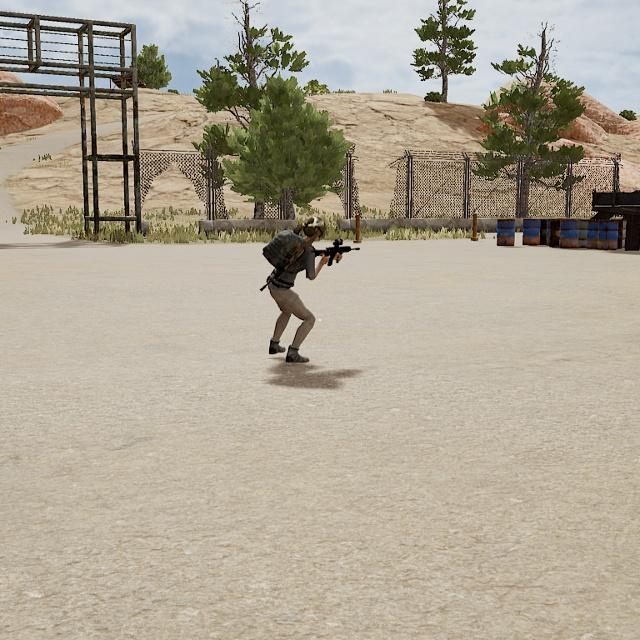head: (302, 214, 328, 246)
people: (259, 211, 330, 366)
